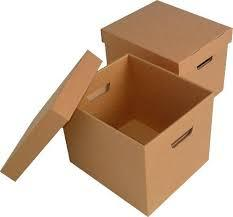plastic: (0, 27, 232, 217)
